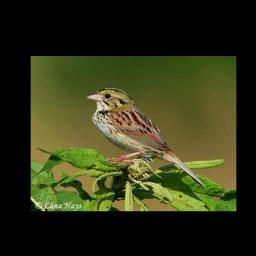Sparrow: (84, 86, 209, 191)
